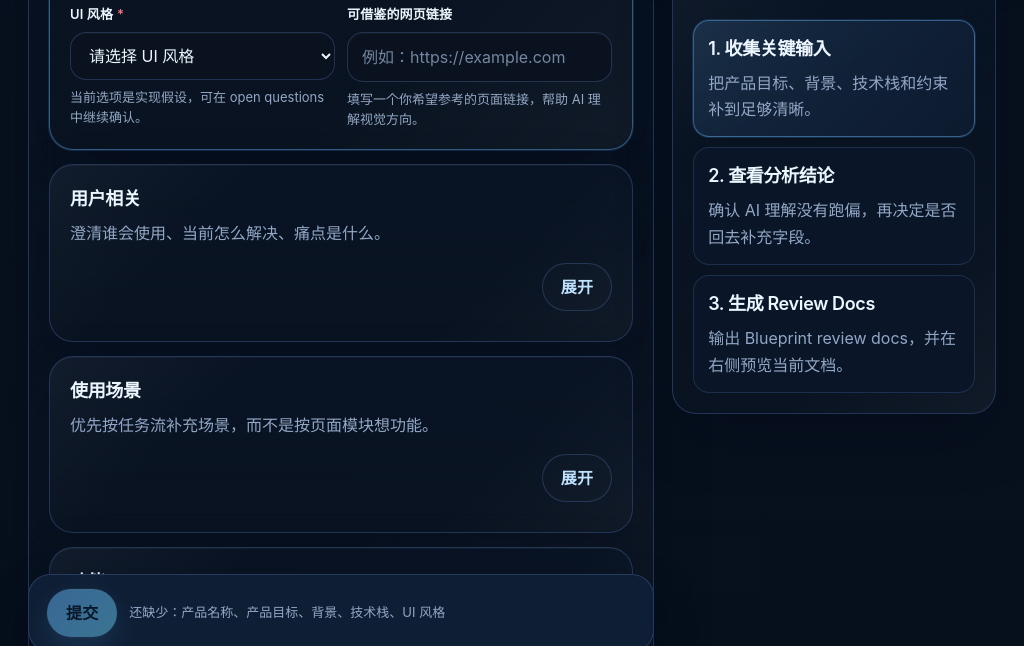
App › keeps other sections open when expanding another section
(page scrolled)
Click the button with aria-label "展开用户相关".
click(577, 286)  # box [542,262,612,310]
(page scrolled)
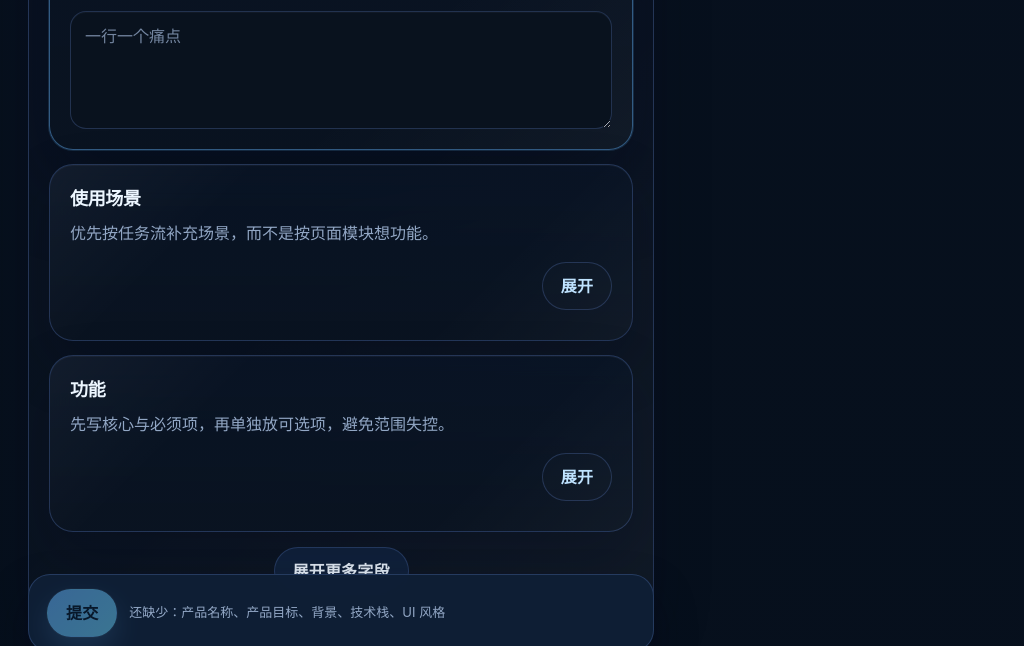
Click the button with aria-label "展开使用场景".
click(577, 286)  # box [542,262,612,310]
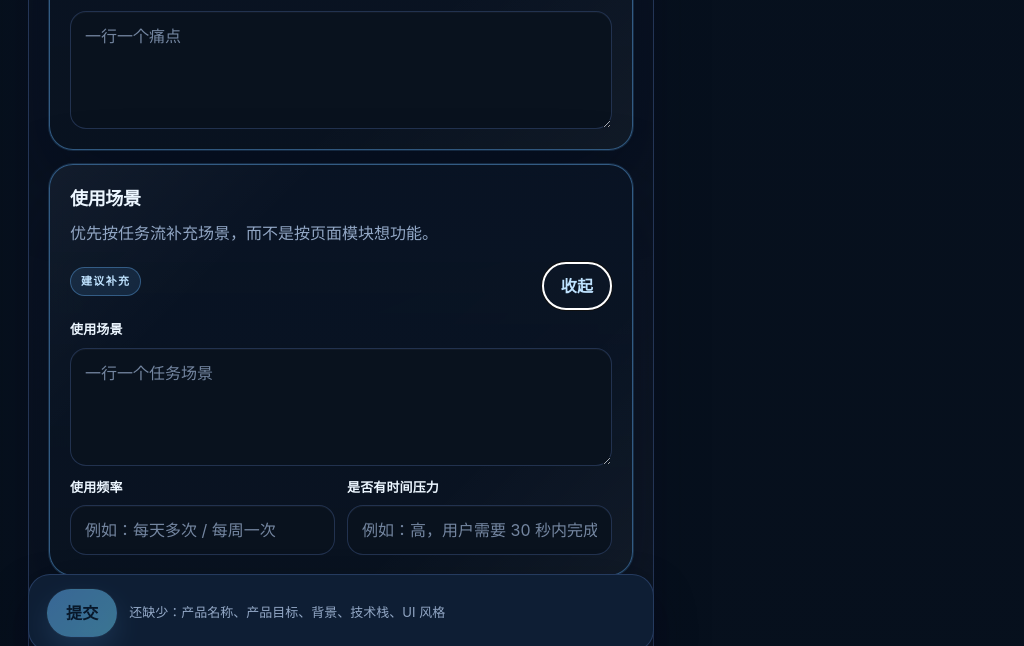
Now the text box labelled "使用场景" is shown, box [70,348,612,466]
